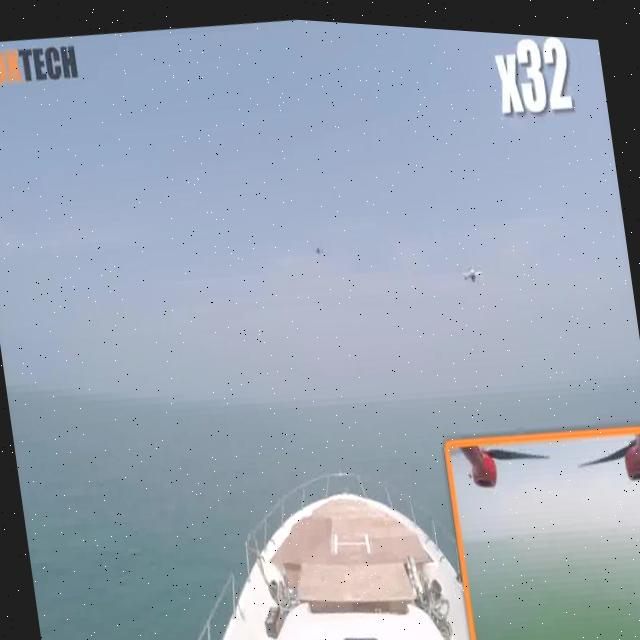drone: (456, 248, 491, 294), (306, 224, 336, 262)
